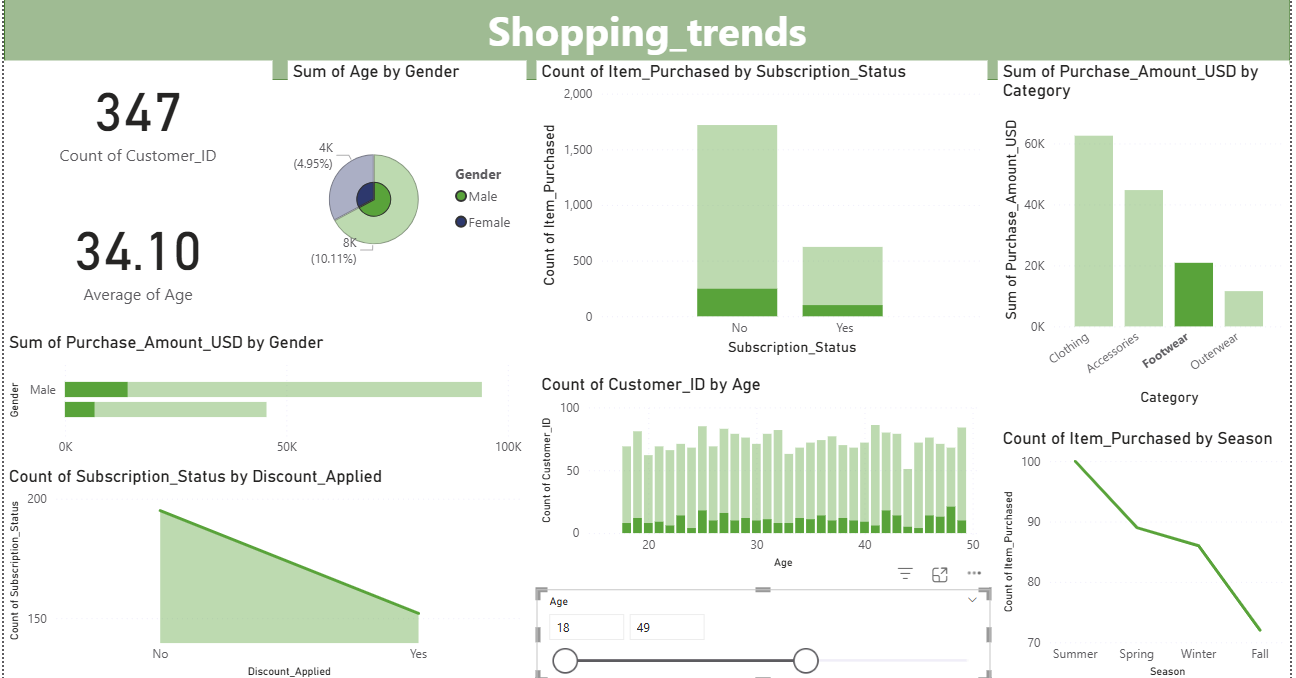

This screenshot's page, from the dashboard's own definition file:
{"tool":"powerbi","page":{"name":"Page 1","canvas":[1280,720],"ordinal":0},"visuals":[{"type":"shape","box":[0,20.6,1280.3,100.2],"z":0},{"type":"pieChart","fields":{"Category":["shopping_trends.Gender"],"Y":["Sum(shopping_trends.Age)"]},"box":[282.9,101.9,237.7,257.5],"z":1000},{"type":"clusteredColumnChart","fields":{"Y":["Sum(shopping_trends.Purchase_Amount_USD)"],"Category":["shopping_trends.Category"]},"box":[989.5,101.6,290.8,348.6],"z":2000},{"type":"columnChart","fields":{"Category":["shopping_trends.Subscription_Status"],"Y":["CountNonNull(shopping_trends.Item_Purchased)"]},"box":[530.5,101.9,448.5,298.5],"z":3000},{"type":"card","fields":{"Values":["CountNonNull(shopping_trends.Customer_ID)"]},"box":[0,101.6,267.3,111],"z":4000},{"type":"card","fields":{"Values":["Avg(shopping_trends.Age)"]},"box":[0,231.4,267.3,128.2],"z":5000},{"type":"barChart","fields":{"Category":["shopping_trends.Gender"],"Y":["Sum(shopping_trends.Purchase_Amount_USD)"]},"box":[0,372.1,520.6,132.9],"z":6000},{"type":"areaChart","fields":{"Category":["shopping_trends.Discount_Applied"],"Y":["CountNonNull(shopping_trends.Subscription_Status)"]},"box":[0,504.9,520.6,215.7],"z":7000},{"type":"lineChart","fields":{"Category":["shopping_trends.Season"],"Y":["CountNonNull(shopping_trends.Item_Purchased)"]},"box":[989.5,467.4,290.8,253.2],"z":8000},{"type":"lineClusteredColumnComboChart","fields":{"Y":["CountNonNull(shopping_trends.Customer_ID)"],"Category":["shopping_trends.Age"]},"box":[530.5,414.5,447,198.1],"z":8001},{"type":"slicer","fields":{"Values":["shopping_trends.Age"]},"box":[530.5,628.1,451.3,92],"z":8002}]}

Visuals, with their boxes on the page's 1280x720 design canvas (x1, y1, x2, y2). These are canvas units, not pixel positions in the 1296x678 screenshot, which may show the page scaled, cropped or inside an application window:
shape: detection(0, 21, 1280, 121)
pieChart - shopping_trends.Gender x Sum(shopping_trends.Age): detection(283, 102, 521, 359)
clusteredColumnChart - Sum(shopping_trends.Purchase_Amount_USD) x shopping_trends.Category: detection(990, 102, 1280, 450)
columnChart - shopping_trends.Subscription_Status x CountNonNull(shopping_trends.Item_Purchased): detection(530, 102, 979, 400)
card - CountNonNull(shopping_trends.Customer_ID): detection(0, 102, 267, 213)
card - Avg(shopping_trends.Age): detection(0, 231, 267, 360)
barChart - shopping_trends.Gender x Sum(shopping_trends.Purchase_Amount_USD): detection(0, 372, 521, 505)
areaChart - shopping_trends.Discount_Applied x CountNonNull(shopping_trends.Subscription_Status): detection(0, 505, 521, 721)
lineChart - shopping_trends.Season x CountNonNull(shopping_trends.Item_Purchased): detection(990, 467, 1280, 721)
lineClusteredColumnComboChart - CountNonNull(shopping_trends.Customer_ID) x shopping_trends.Age: detection(530, 414, 978, 613)
slicer - shopping_trends.Age: detection(530, 628, 982, 720)
